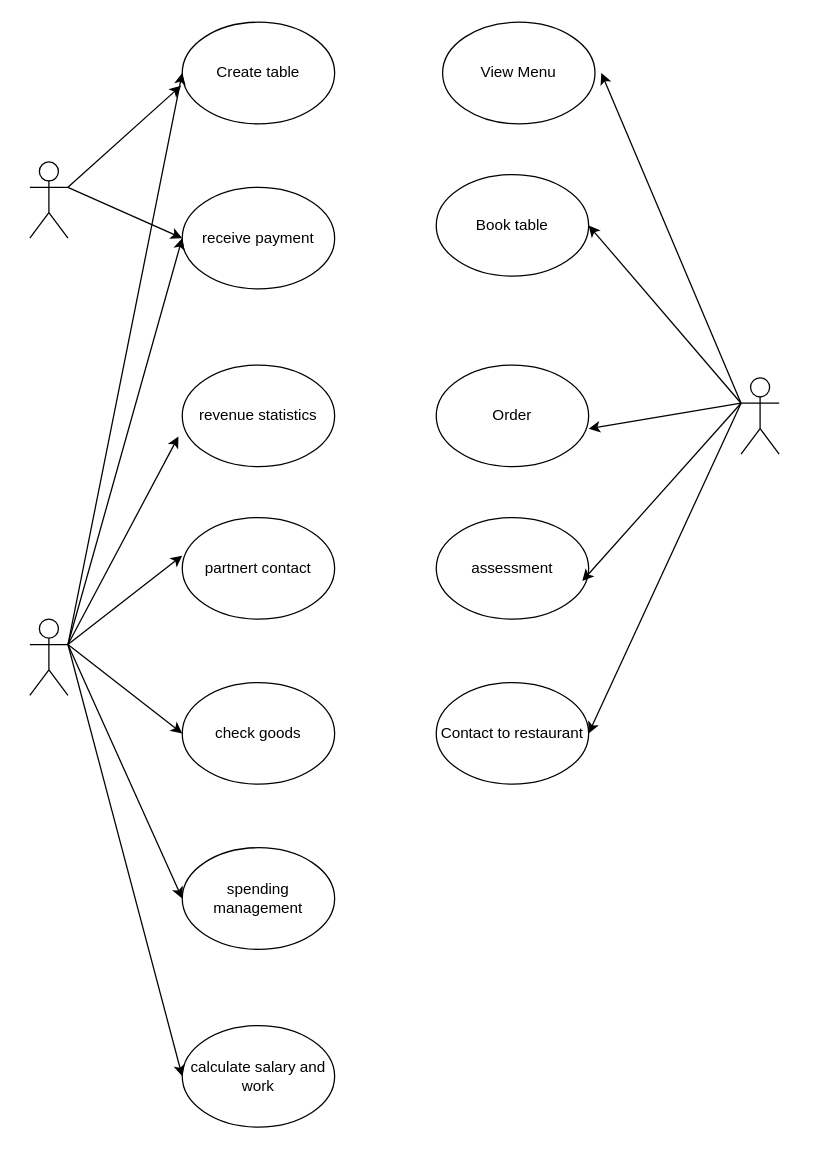
This 815x1149 diagram has some shape labels left out. Each missing label, with the box of its shape:
Customer: (740, 377, 779, 454)
Manage: (29, 618, 68, 695)
Staff: (29, 161, 68, 238)
